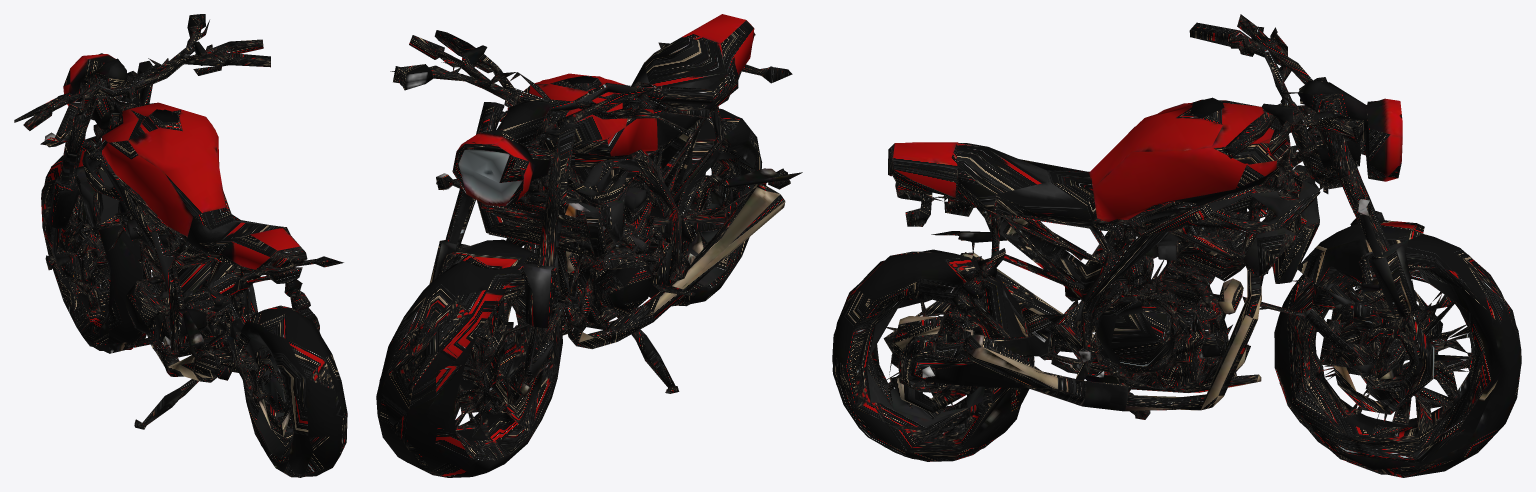
File: moto-naked.glb
3 renders of one model, left to right at view 1: azimuth 30°, elevation 25°; view 2: azimuth 150°, elevation 25°; view 3: azimuth 270°, elevation 25°, orthographic. The views are drawn at different scales.
Parts seen in each view (by area): view 1: corpo, rodaT, rodaD; view 2: corpo, rodaD, rodaT; view 3: corpo, rodaT, rodaD.
Part boxes in pixels (x1,y1,x2,y2): corpo: (14,14,346,460); rodaT: (231,306,347,477); rodaD: (41,162,110,353); corpo: (376,14,802,474); rodaD: (406,288,543,477); rodaT: (649,108,762,306); corpo: (845,14,1521,477); rodaT: (832,249,1023,459); rodaD: (1286,266,1476,474).
Bounding box in the file's own units: 1 × 1.23 × 1.96.
1 material, 1 textured.
